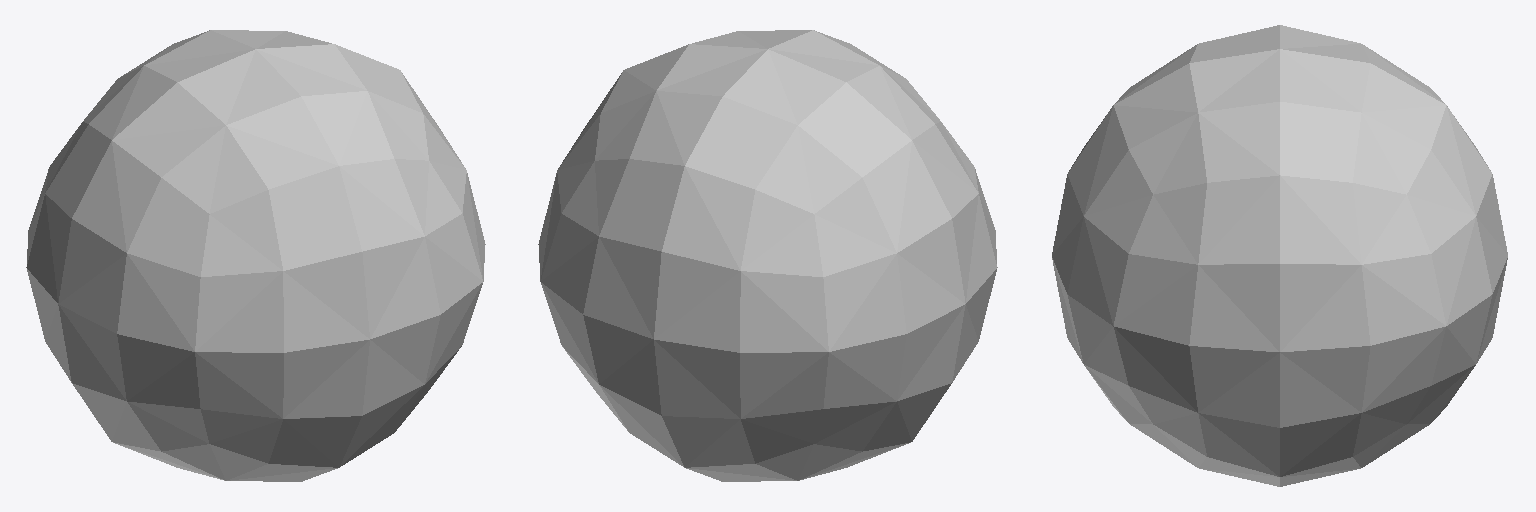
Rendered from gammasphere.obj.
The picture shows the model from 3 angles: view 1: azimuth 30°, elevation 25°; view 2: azimuth 150°, elevation 25°; view 3: azimuth 270°, elevation 25°; orthographic projection.
Parts seen in each view (by area): view 1: Ball03; view 2: Ball03; view 3: Ball03.
Part boxes in pixels (x1,y1,x2,y2): Ball03: (26, 30, 485, 481); Ball03: (538, 30, 997, 481); Ball03: (1052, 25, 1507, 486).
Bounding box in the file's own units: 0.3842 × 0.3842 × 0.3842.